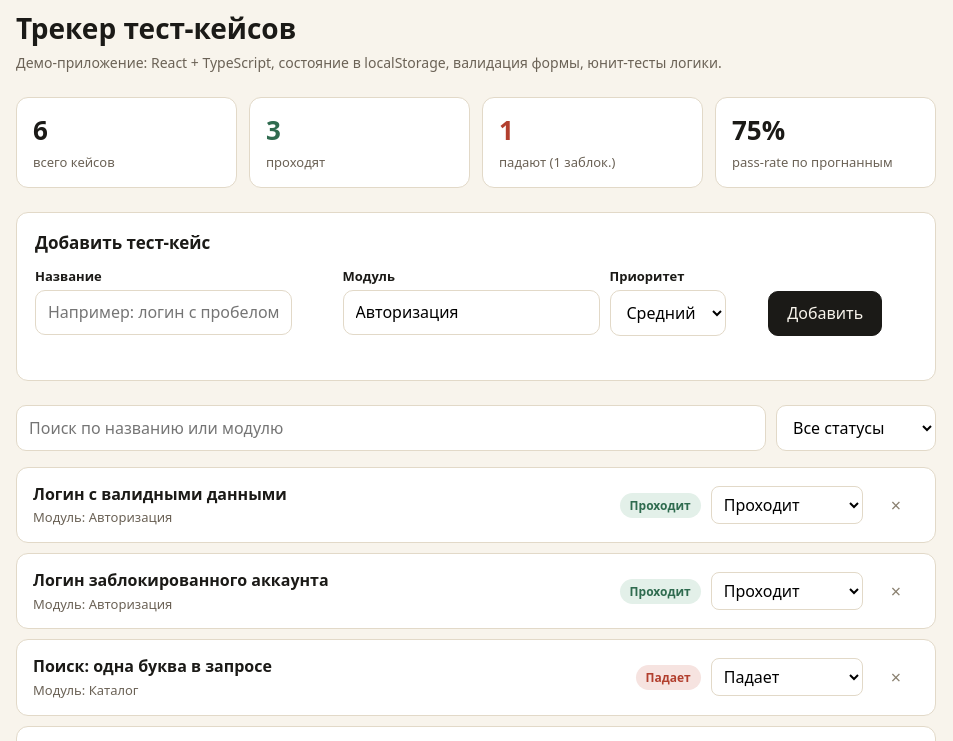
Test case: Форма добавления › показывает ошибку на короткое название и не добавляет кейс
Type "abc" into the field labelled "Название". click: [164, 313]
box: [35,290,292,336]
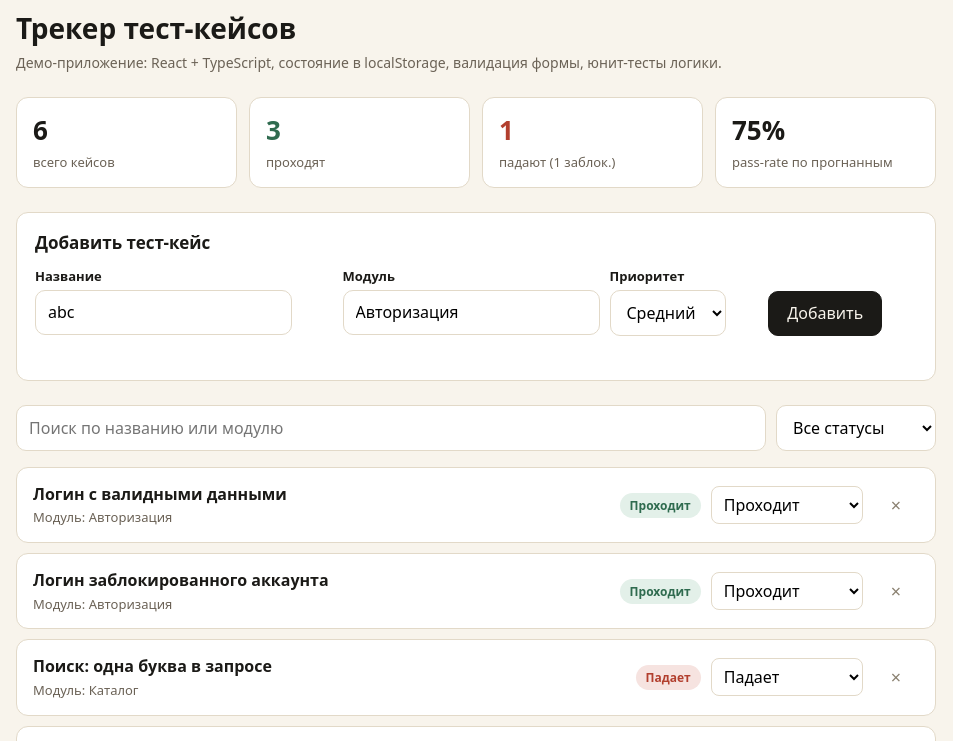
Click the button "Добавить". click: [825, 314]
box: [768,291,882,336]
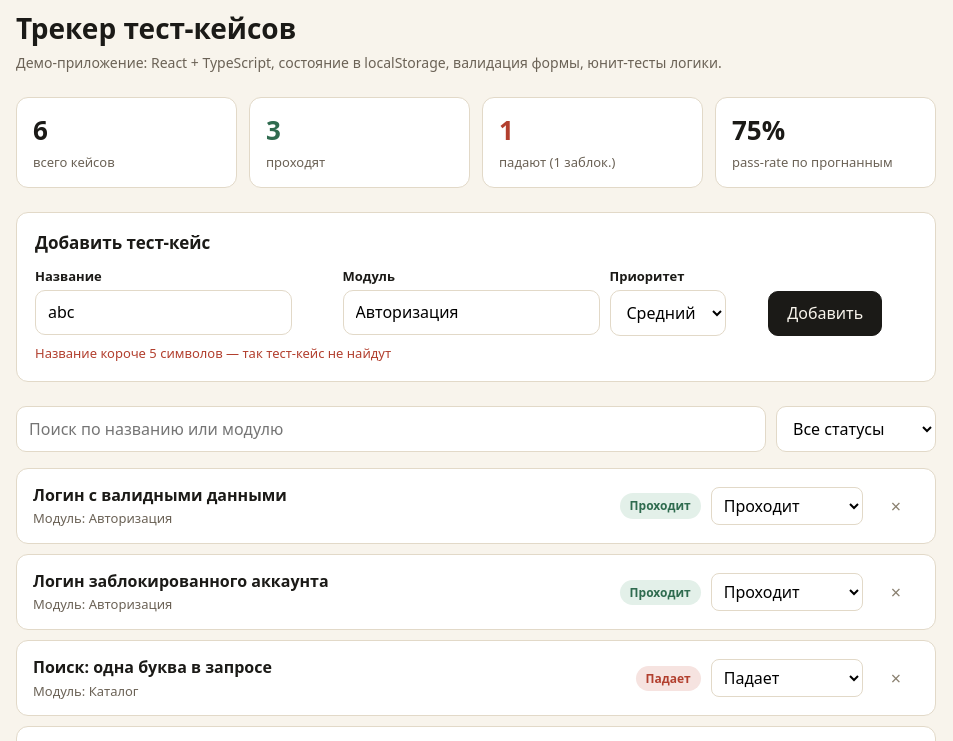
Expected: the message shows "короче 5", [35,344,391,362]
